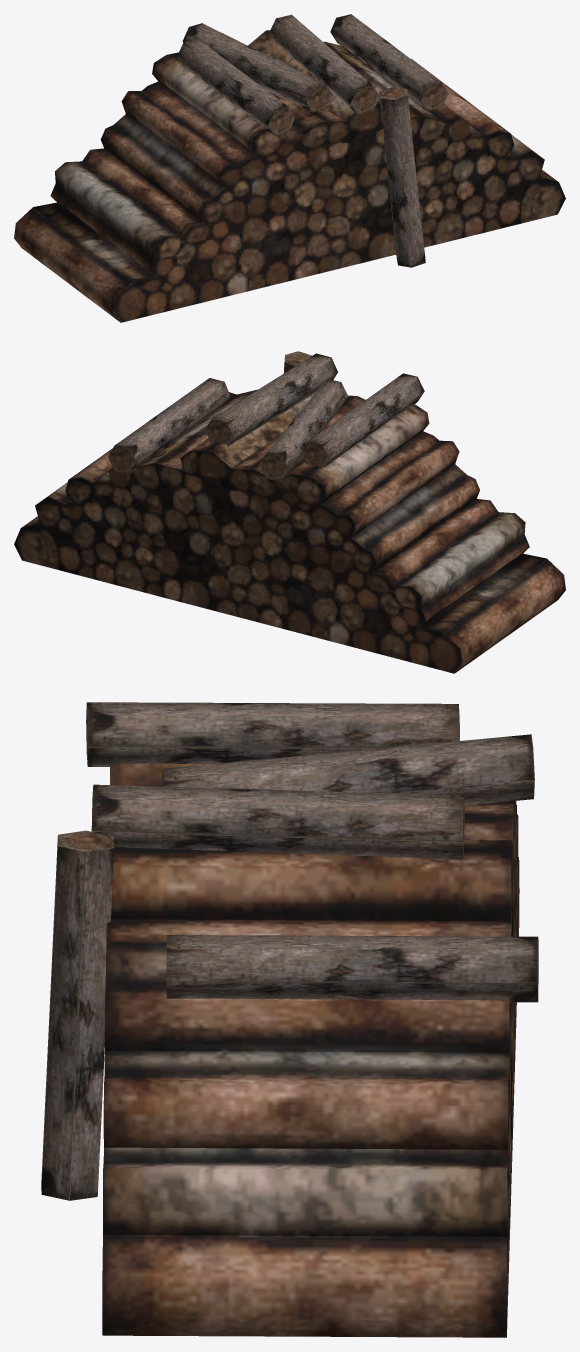
Rendered from d_emc_shouyou_mudui01_qt.FBX.
The picture shows the model from 3 angles, top to bottom: view 1: azimuth 30°, elevation 25°; view 2: azimuth 150°, elevation 25°; view 3: azimuth 270°, elevation 25°; orthographic projection. The views are drawn at different scales.
Parts seen in each view (by area): view 1: d_emc_shouyou_guizi01_qt; view 2: d_emc_shouyou_guizi01_qt; view 3: d_emc_shouyou_guizi01_qt.
Part boxes in pixels (x1,y1,x2,y2): d_emc_shouyou_guizi01_qt: (14, 14, 565, 322); d_emc_shouyou_guizi01_qt: (14, 351, 565, 673); d_emc_shouyou_guizi01_qt: (41, 702, 538, 1337).
Bounding box in the file's own units: 3.05 × 1.17 × 1.45.
